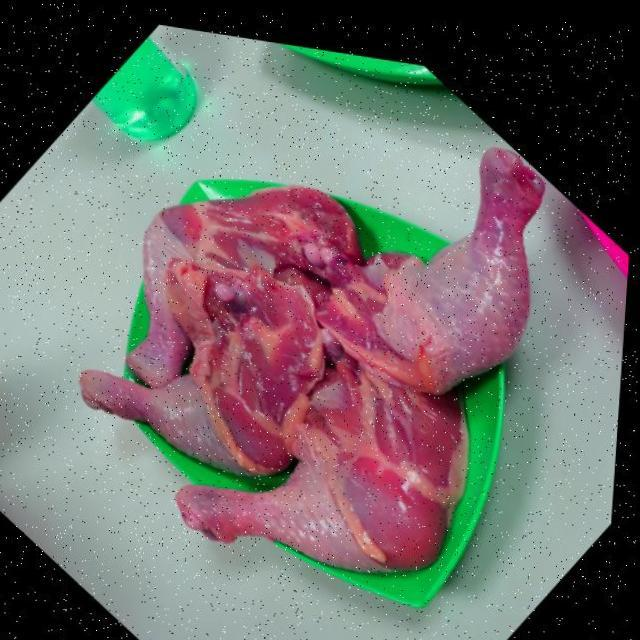quater: (173, 374, 464, 566), (100, 172, 362, 376), (332, 141, 548, 388), (64, 259, 320, 467), (191, 371, 200, 376)
